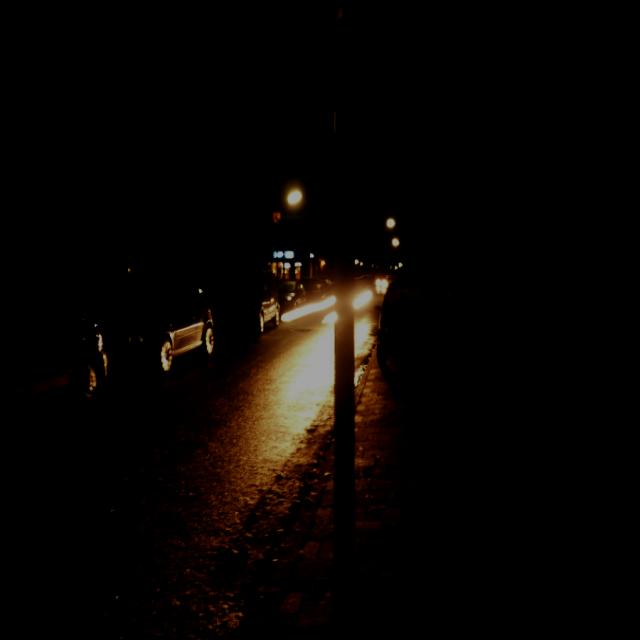Car: (88, 279, 217, 368), (380, 277, 447, 374)
